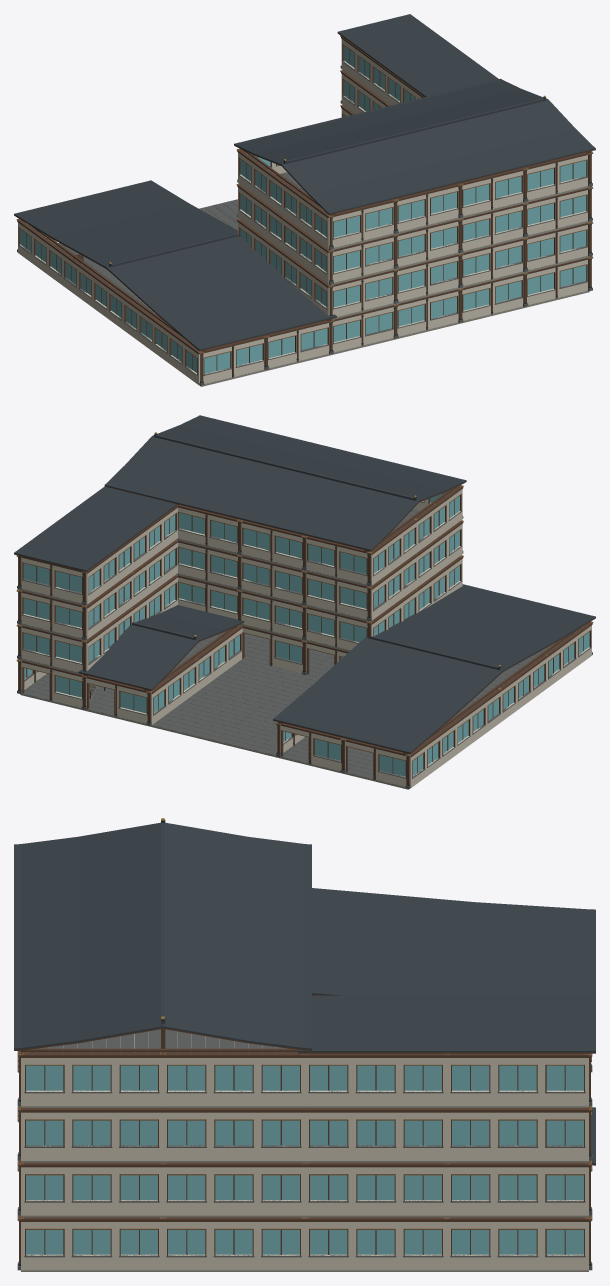
3 renders of one model, top to bottom at view 1: azimuth 30°, elevation 25°; view 2: azimuth 150°, elevation 25°; view 3: azimuth 270°, elevation 25°, orthographic. The views are drawn at different scales.
Parts seen in each view (by area): view 1: 参数墙 · 独立窗玻璃 (×31), 连续屋面 · gable (×2), 连续屋面 · flat; view 2: 连续屋面 · gable (×3), 参数墙 · 独立窗玻璃 (×30), 石铺面与混凝土楼板 (×9), 参数墙 · 通行门洞 (×5), 连续屋面 · flat; view 3: 参数墙 · 独立窗玻璃 (×16), 连续屋面 · gable (×2), 连续屋面 · flat, 石铺面与混凝土楼板 (×2).
Boxes of the visible parts, x1=… form: 参数墙 · 独立窗玻璃 (×31): x1=17, y1=36, x2=589, y2=384; 连续屋面 · gable (×2): x1=14, y1=78, x2=595, y2=351; 连续屋面 · flat: x1=337, y1=14, x2=498, y2=96; 连续屋面 · gable (×3): x1=78, y1=415, x2=595, y2=754; 参数墙 · 独立窗玻璃 (×30): x1=20, y1=486, x2=592, y2=787; 石铺面与混凝土楼板 (×9): x1=20, y1=639, x2=408, y2=789; 参数墙 · 通行门洞 (×5): x1=20, y1=625, x2=409, y2=786; 连续屋面 · flat: x1=14, y1=486, x2=178, y2=572; 参数墙 · 独立窗玻璃 (×16): x1=21, y1=1052, x2=588, y2=1270; 连续屋面 · gable (×2): x1=14, y1=818, x2=595, y2=1052; 连续屋面 · flat: x1=298, y1=995, x2=595, y2=1053; 石铺面与混凝土楼板 (×2): x1=28, y1=1029, x2=297, y2=1052.
Size of the model in its own units: 40.4 by 15.88 by 32.8.
15 materials, 15 textured.
